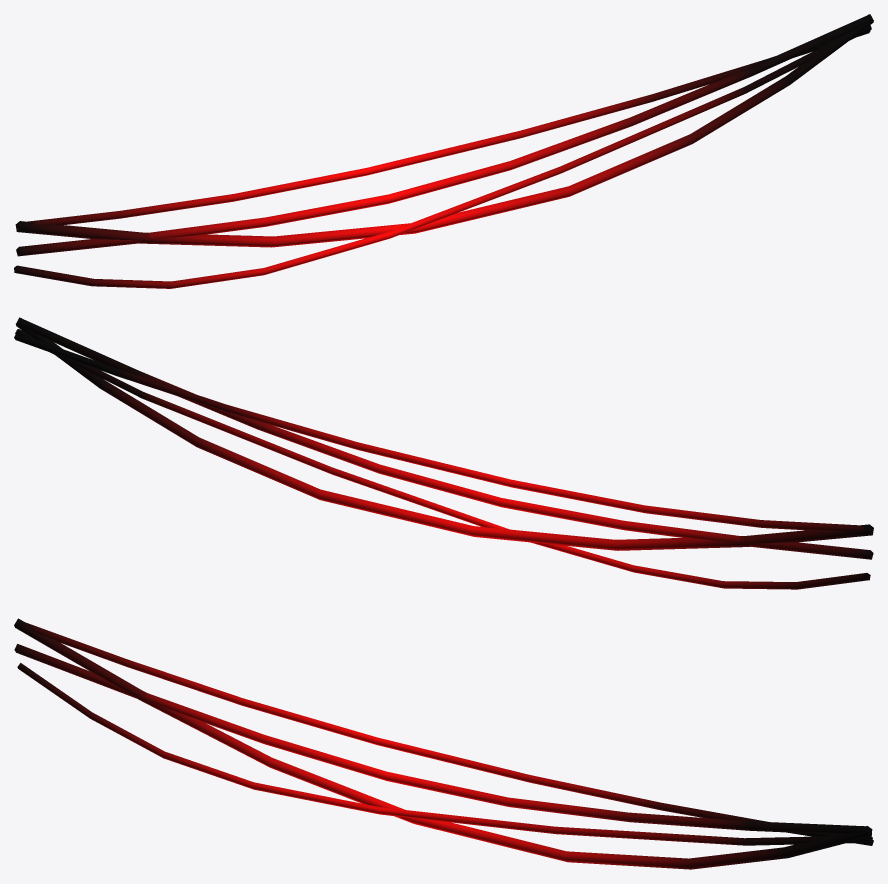
File: Cable_01.FBX
The picture shows the model from 3 angles, top to bottom: view 1: azimuth 30°, elevation 25°; view 2: azimuth 150°, elevation 25°; view 3: azimuth 330°, elevation 25°; orthographic projection.
Visible parts, largest first — view 1: Cable_01_COL; view 2: Cable_01_COL; view 3: Cable_01_COL.
Boxes of the visible parts, x1,y1,x2,y2 form: Cable_01_COL: (14, 14, 873, 288); Cable_01_COL: (14, 317, 873, 589); Cable_01_COL: (14, 618, 873, 869).
Bounding box in the file's own units: 1775 × 217 × 49.29.
